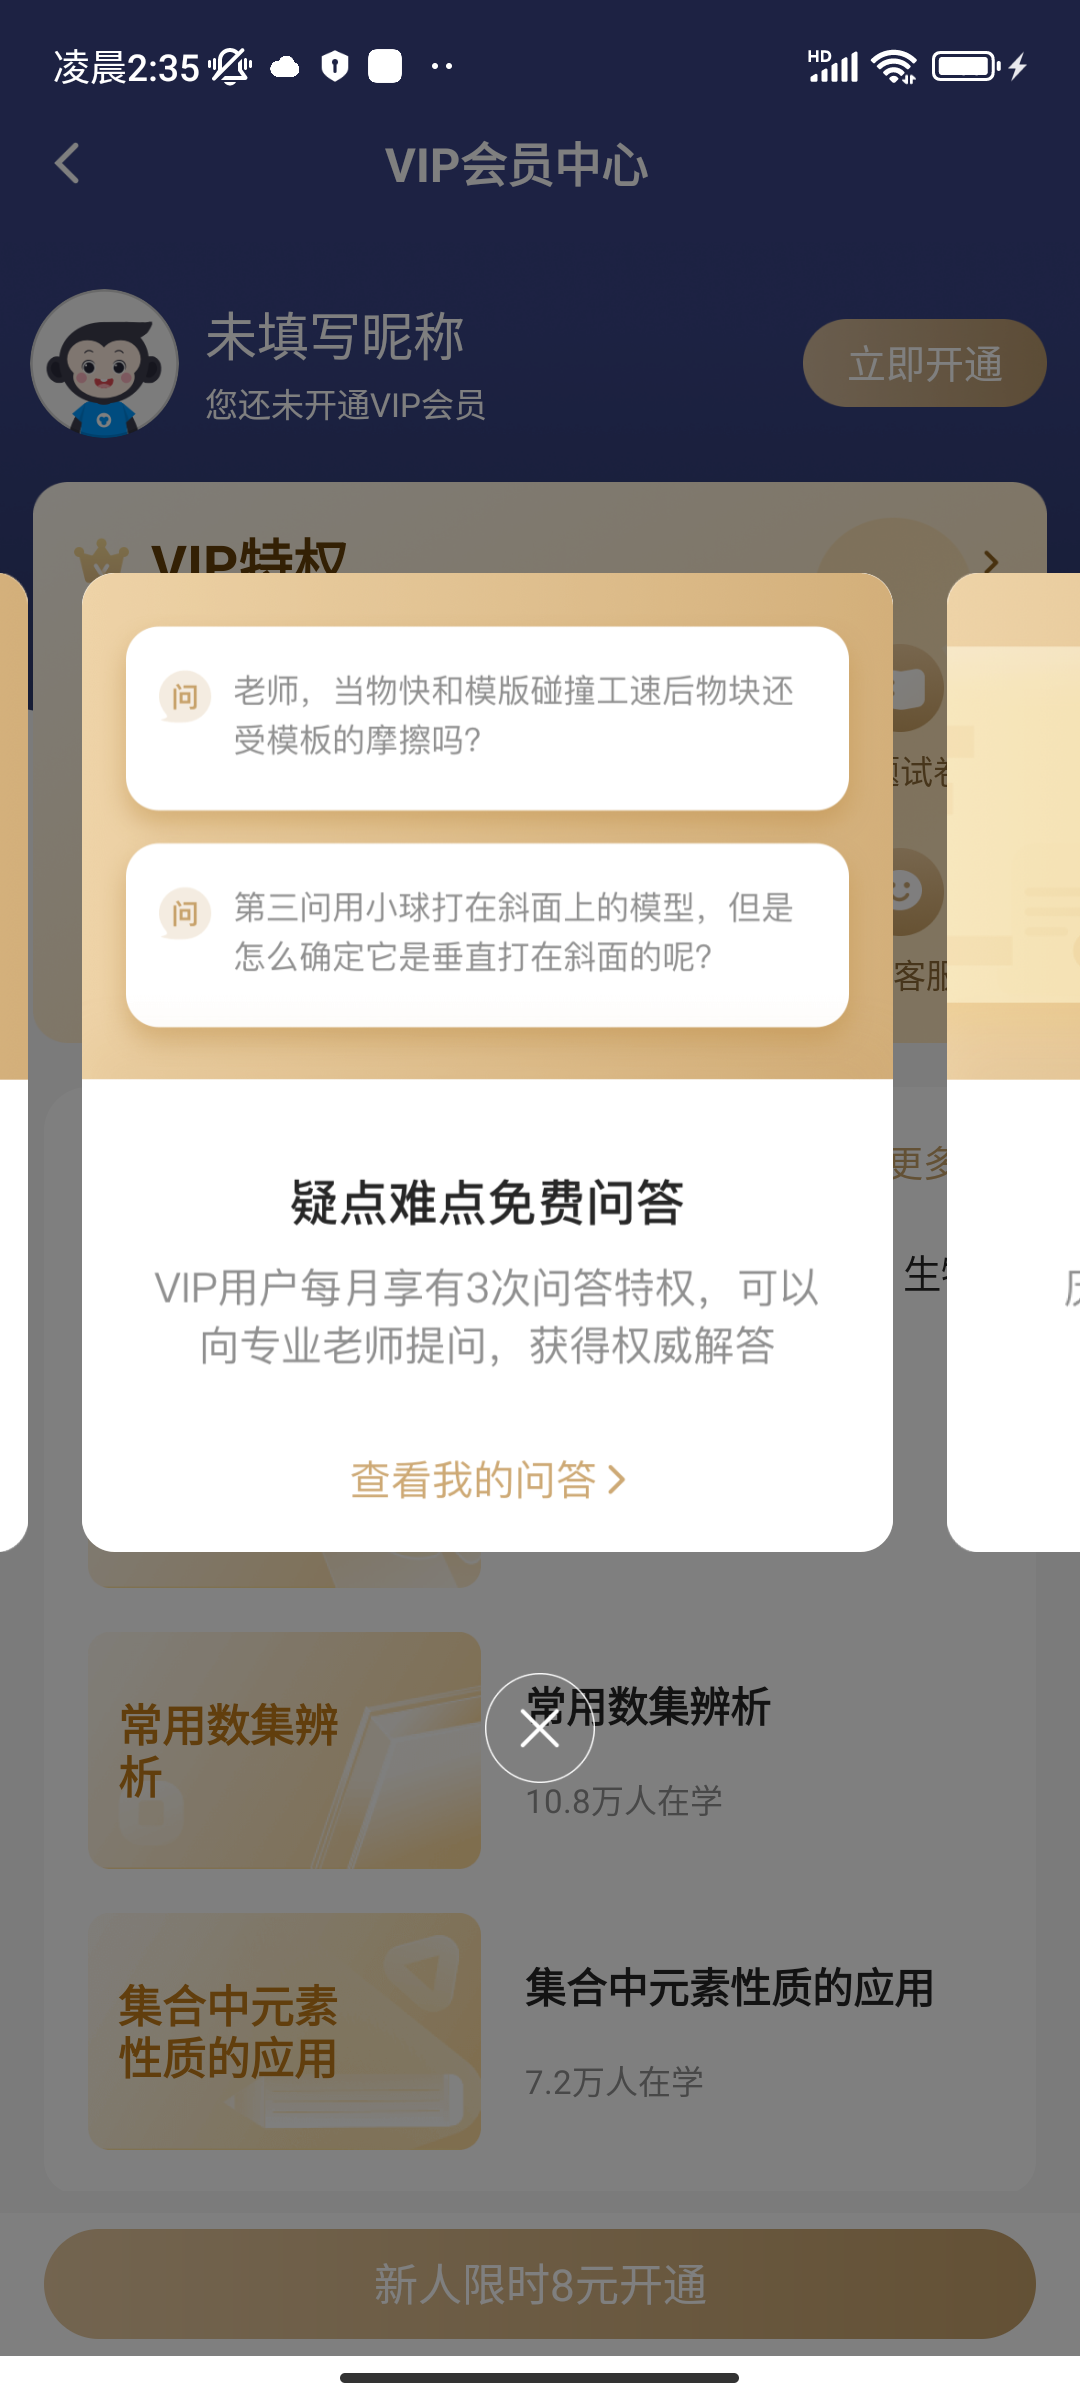ui_group: (80, 568, 890, 1554)
